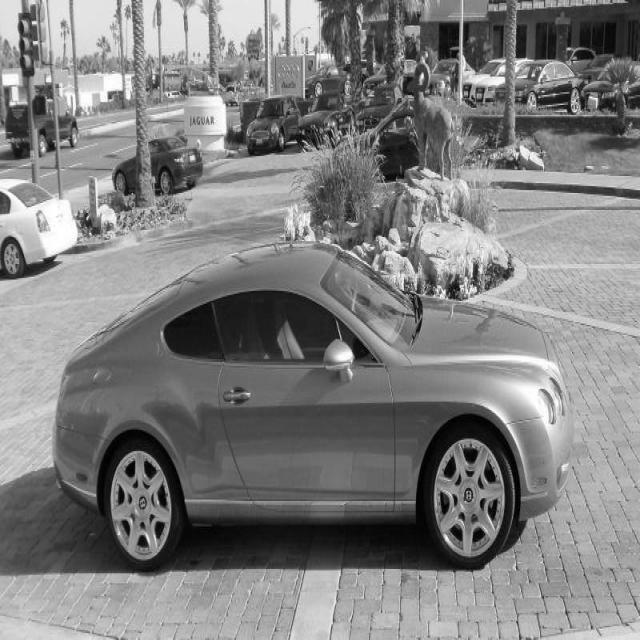Sedan: (52, 243, 573, 573)
